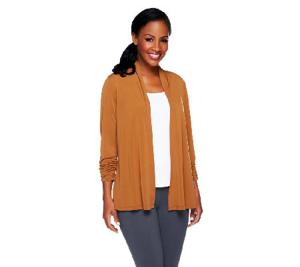C_cardigan sweater: (95, 60, 205, 221)
